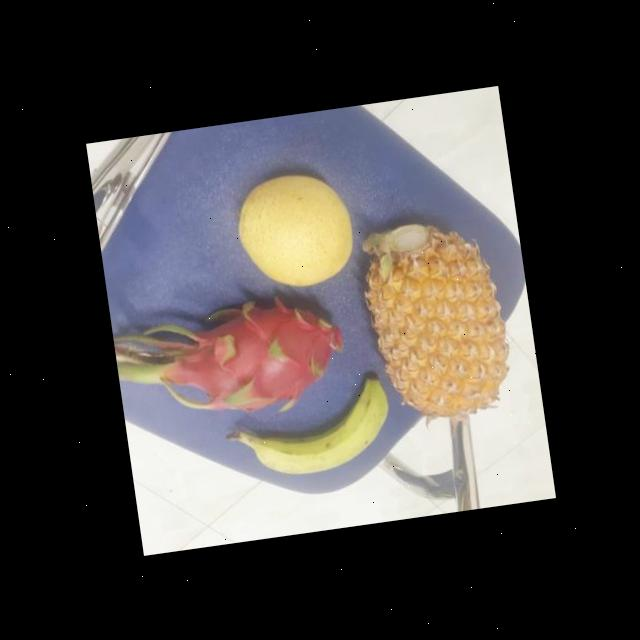banana: (239, 377, 402, 481)
pear: (228, 166, 364, 294)
pineapple: (356, 207, 517, 424)
pitaya: (166, 285, 362, 424)
